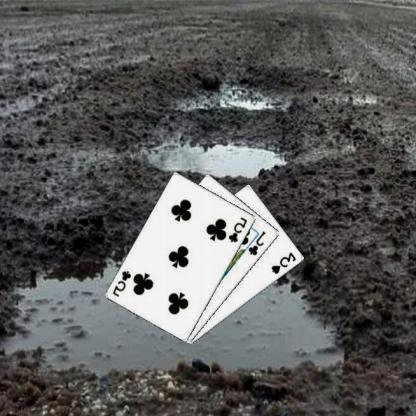3S: (270, 250, 300, 276)
5C: (228, 214, 250, 244), (112, 268, 134, 298)
JC: (248, 228, 269, 257)
